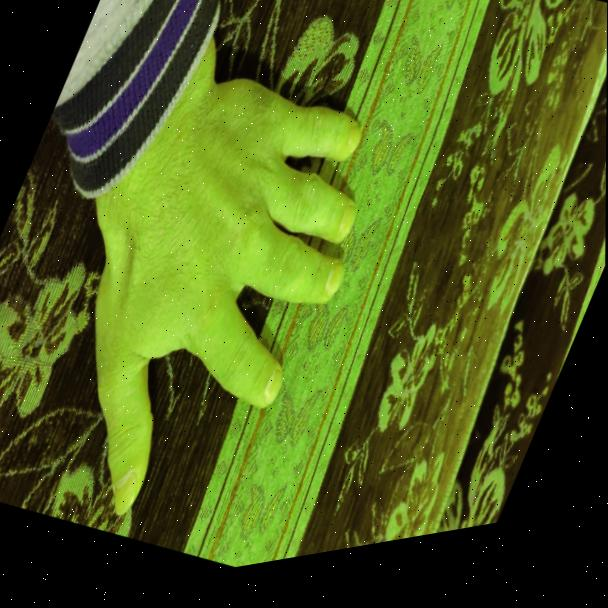five: (33, 14, 419, 567)
